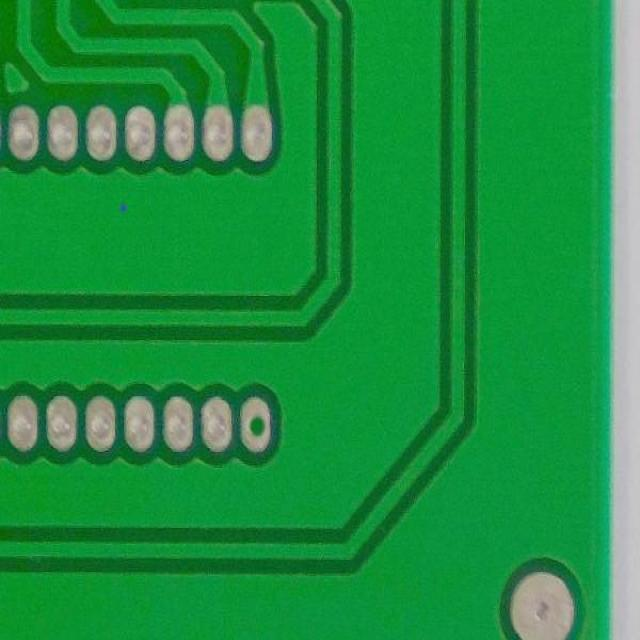missing hole: (237, 389, 278, 455)
